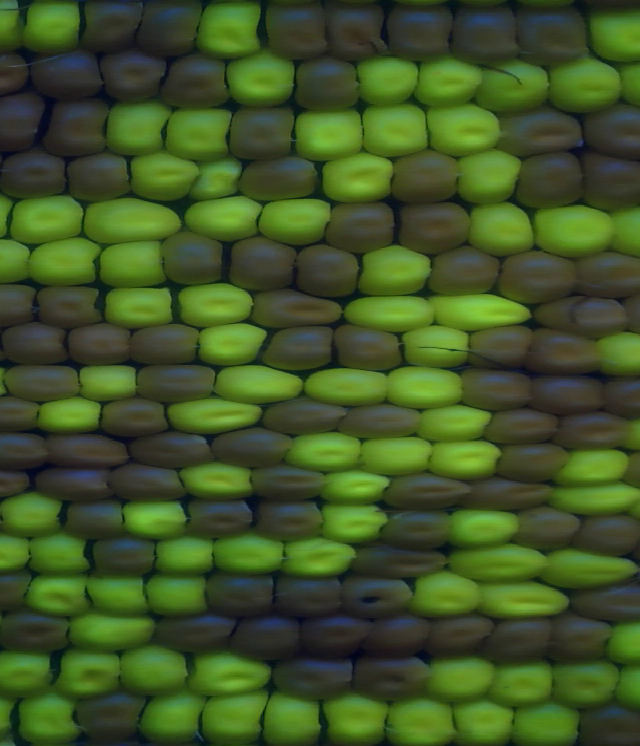fluorescent: (335, 286, 445, 334), (288, 104, 371, 167), (79, 196, 189, 243), (533, 204, 622, 261), (429, 286, 533, 334), (159, 106, 238, 168), (441, 546, 557, 588), (410, 51, 490, 111), (539, 545, 638, 593), (10, 192, 89, 251), (212, 359, 309, 407), (316, 692, 401, 746), (196, 689, 275, 746), (188, 648, 278, 698), (360, 101, 432, 163), (461, 200, 538, 257), (318, 153, 399, 207), (303, 359, 398, 405), (181, 193, 265, 245), (134, 689, 210, 746), (421, 102, 501, 156), (549, 655, 626, 711), (418, 650, 496, 705), (256, 193, 335, 247), (92, 240, 171, 294), (476, 579, 575, 622), (547, 59, 623, 115), (477, 61, 553, 116), (384, 363, 469, 412), (223, 52, 298, 107), (453, 151, 526, 207), (22, 568, 97, 622), (355, 246, 437, 295), (254, 687, 322, 746), (67, 607, 160, 650), (406, 570, 491, 617), (378, 695, 456, 746), (11, 684, 75, 746), (400, 322, 479, 372), (172, 281, 259, 326), (581, 1, 640, 67), (57, 646, 129, 700), (505, 696, 582, 746), (487, 655, 558, 709), (0, 489, 72, 542), (118, 644, 196, 692), (202, 1, 265, 59), (350, 435, 437, 477), (126, 151, 199, 201), (351, 58, 427, 106), (164, 392, 260, 430), (104, 280, 178, 329), (278, 532, 355, 579), (20, 1, 85, 56), (285, 428, 366, 472), (195, 322, 272, 368), (104, 99, 167, 155), (80, 571, 150, 621), (446, 696, 516, 746), (423, 437, 504, 480), (546, 482, 640, 519), (313, 502, 390, 547), (29, 529, 94, 582), (35, 393, 108, 440), (121, 492, 189, 542), (141, 569, 209, 619), (175, 462, 261, 501), (411, 403, 496, 442), (0, 646, 59, 701), (558, 446, 636, 487), (210, 533, 291, 572), (78, 361, 144, 405), (151, 536, 221, 576), (446, 508, 515, 548), (317, 470, 396, 502), (190, 153, 243, 200), (593, 328, 640, 376), (603, 618, 640, 677), (0, 530, 39, 576), (0, 1, 32, 56), (0, 237, 33, 281)
nonfluorescent: (505, 4, 595, 73), (497, 242, 580, 309), (375, 1, 455, 67), (232, 147, 325, 203), (312, 1, 390, 66), (226, 99, 302, 164), (449, 1, 523, 67), (260, 1, 335, 66), (320, 197, 398, 259), (229, 233, 304, 297), (245, 283, 347, 330), (494, 107, 587, 158), (226, 610, 313, 664), (273, 653, 358, 708), (525, 293, 623, 340), (67, 692, 157, 743), (139, 1, 208, 67), (394, 197, 469, 256), (381, 471, 480, 515), (522, 325, 608, 375), (27, 49, 112, 99), (42, 96, 109, 159), (514, 148, 585, 207), (389, 149, 463, 205), (546, 610, 616, 669), (158, 230, 226, 290), (352, 541, 451, 582), (0, 146, 71, 203), (580, 149, 640, 216), (259, 321, 336, 373), (273, 571, 350, 623), (290, 58, 365, 111), (160, 52, 233, 106), (68, 146, 141, 200), (95, 394, 177, 442), (351, 653, 433, 701), (79, 1, 149, 57), (423, 244, 499, 295), (204, 428, 294, 471), (39, 428, 132, 469), (298, 614, 371, 666), (98, 52, 168, 106), (83, 532, 160, 581), (151, 610, 238, 653), (205, 569, 279, 619), (419, 610, 493, 660), (296, 241, 362, 297), (360, 614, 432, 665), (338, 402, 425, 444), (470, 473, 551, 518), (123, 427, 216, 466), (489, 615, 555, 669), (0, 610, 81, 654), (2, 361, 88, 402), (334, 320, 403, 371), (458, 363, 535, 408), (245, 458, 329, 499), (126, 323, 204, 367), (33, 282, 106, 329), (564, 246, 640, 291), (131, 362, 218, 401), (252, 496, 324, 543), (581, 103, 640, 160), (106, 461, 188, 502), (37, 462, 119, 503), (342, 570, 413, 617), (464, 322, 532, 371), (0, 318, 69, 366), (182, 496, 257, 540), (530, 371, 605, 414), (570, 512, 640, 558), (552, 409, 629, 450), (573, 580, 640, 627), (67, 321, 133, 368), (0, 91, 50, 153), (484, 403, 563, 442), (383, 505, 454, 548), (63, 496, 130, 541), (574, 702, 640, 746), (518, 502, 576, 551), (261, 401, 352, 432), (499, 434, 565, 474), (597, 371, 640, 416), (0, 433, 51, 470), (0, 47, 36, 98), (0, 397, 44, 435), (0, 284, 36, 326), (0, 569, 34, 613), (0, 466, 36, 502)
